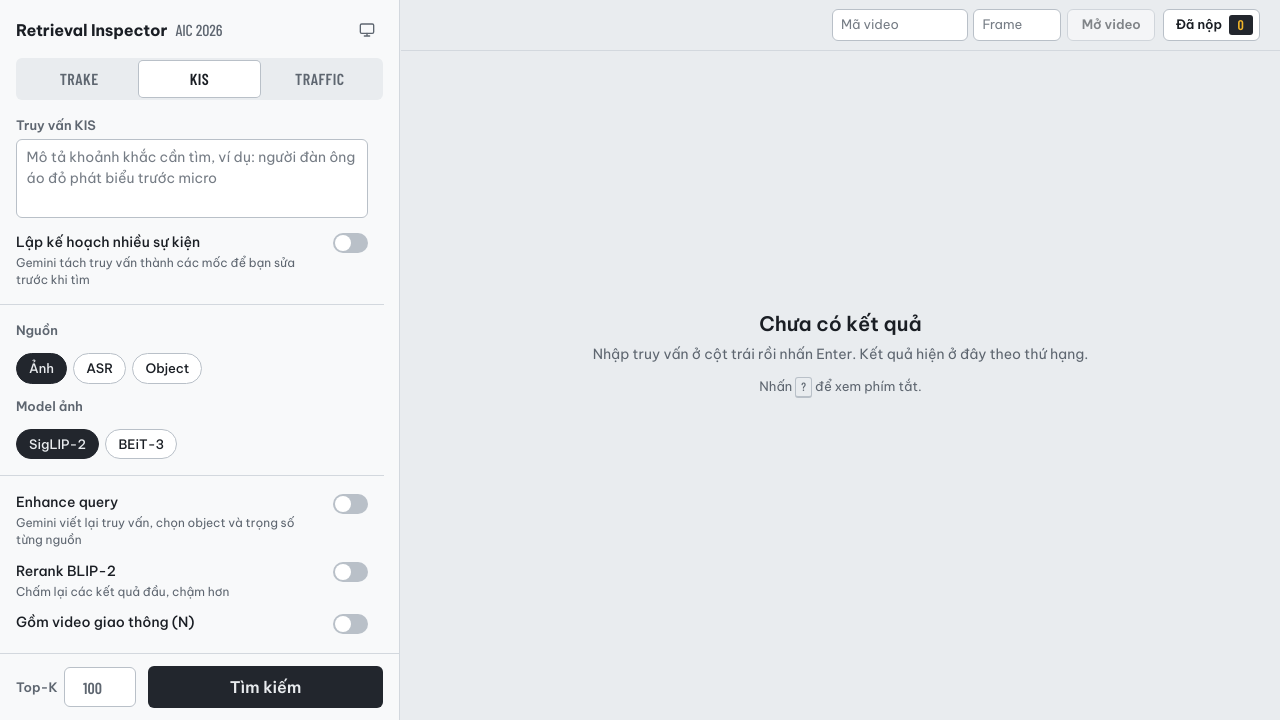
it: Object search source › lets Gemini pick objects and pins an auto object into the object query
Type "hai người đạp xe" into the text box labelled "Truy vấn KIS" at (192, 179), box [16,139,368,218]
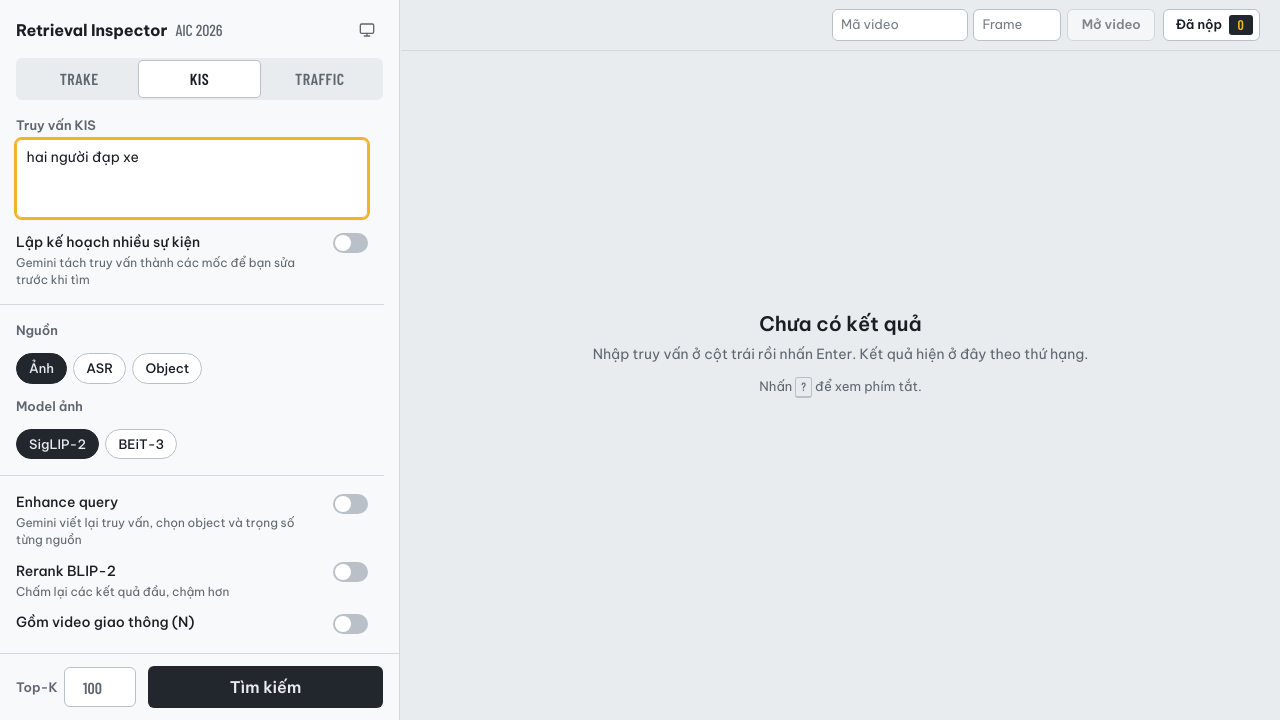
Click the switch labelled "Enhance query" at (350, 504), box [333,494,368,514]
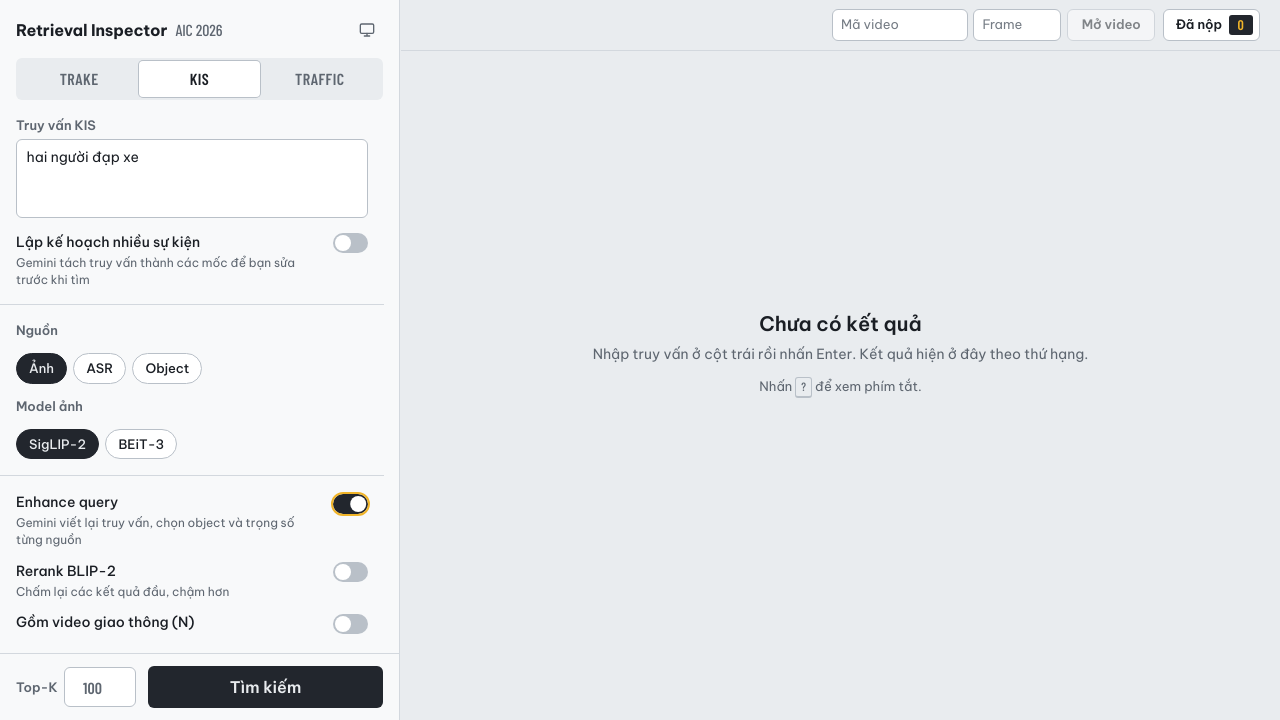
Click the checkbox labelled "Object" at (167, 368), box [132,353,202,384]
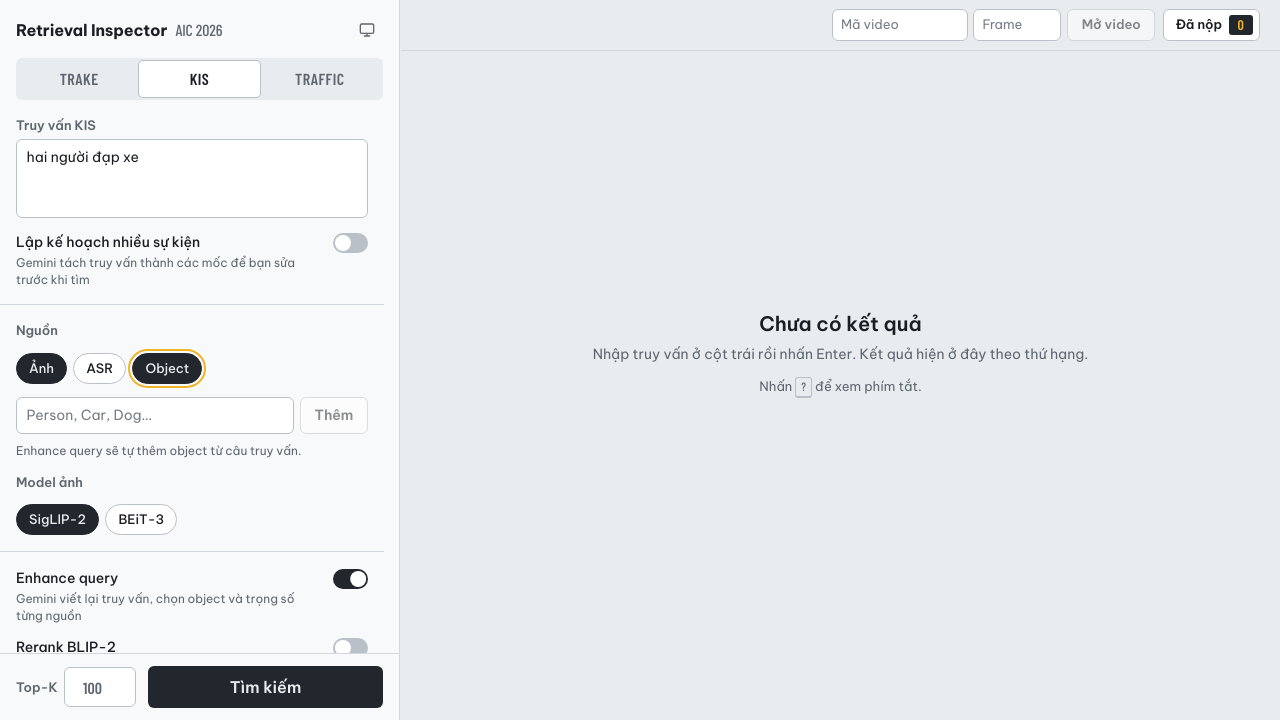
Expected: the text "Enhance query sẽ tự thêm object từ câu truy vấn." is shown, [16,443,301,458]
Click the button "Tìm kiếm" at (266, 687), box [148,666,383,708]
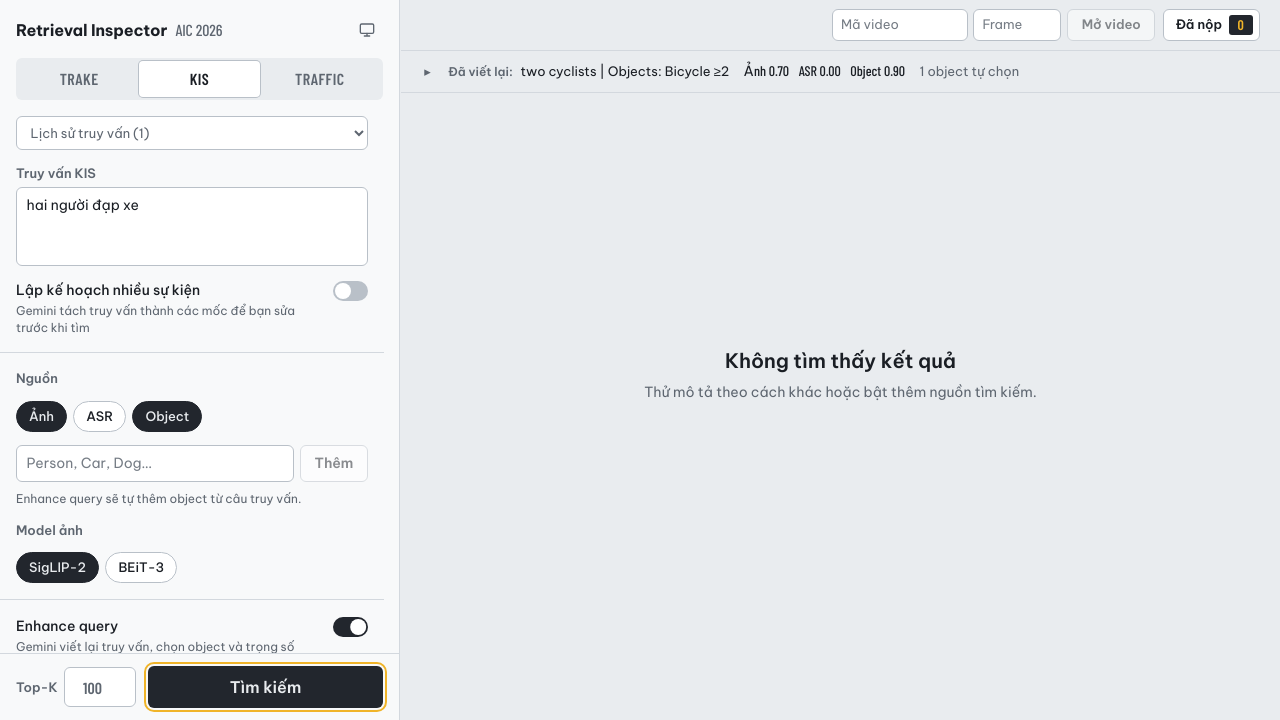
Expected: the text "Object 0.90" is shown, [850,61,905,81]
Expected: the text "1 object tự chọn" is shown, [919,62,1019,80]
Click the button with aria-label "Mở chi tiết truy vấn" at (840, 71), box [421,59,1260,84]
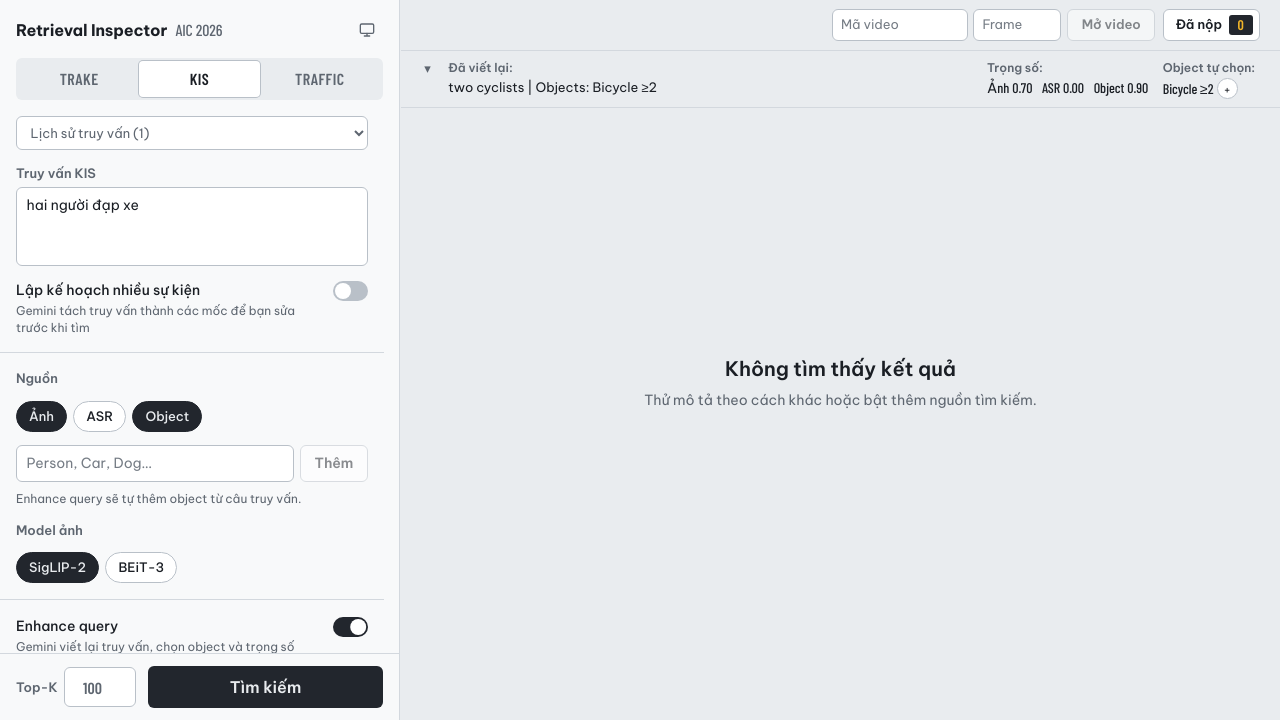
Click the button named "Giữ Bicycle" at (1227, 89), box [1217,78,1238,99]
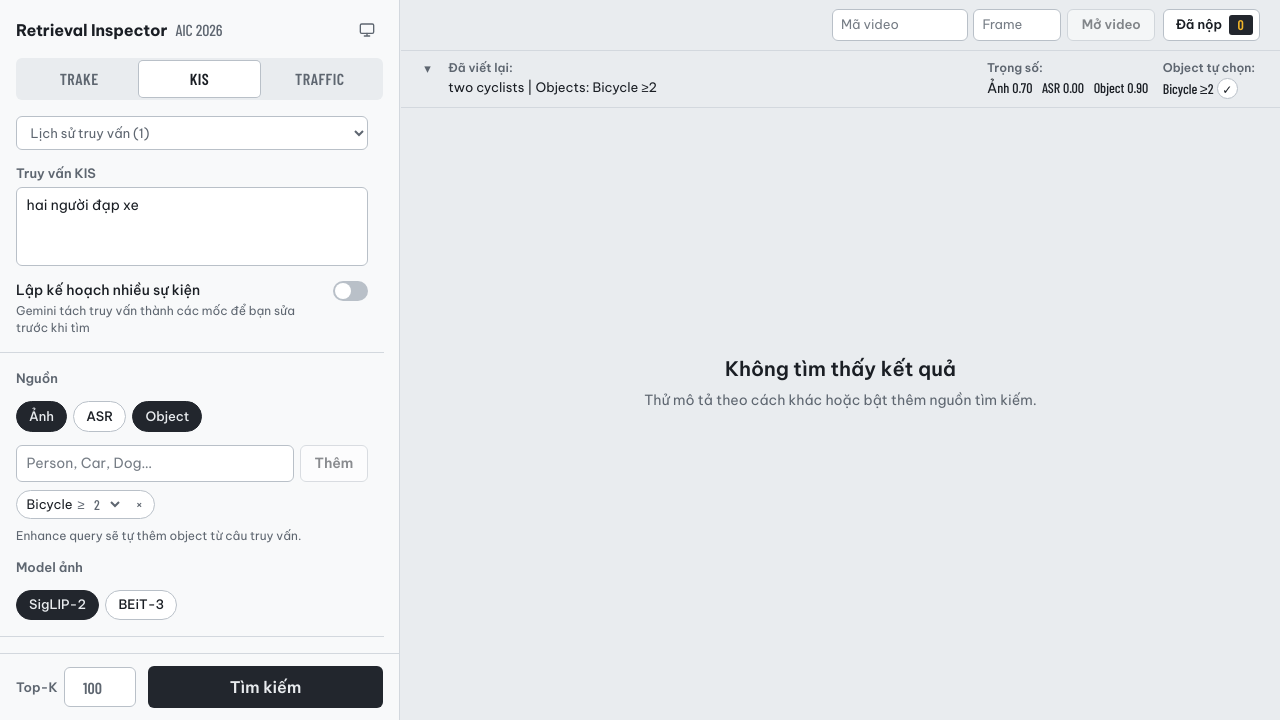
Expected: the dropdown named "Số lượng tối thiểu Bicycle" shows "2", [87,495,123,514]
Expected: the button named "Giữ Bicycle" is disabled, [1217,78,1238,99]
